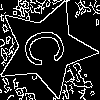C: (21, 24, 77, 70)
